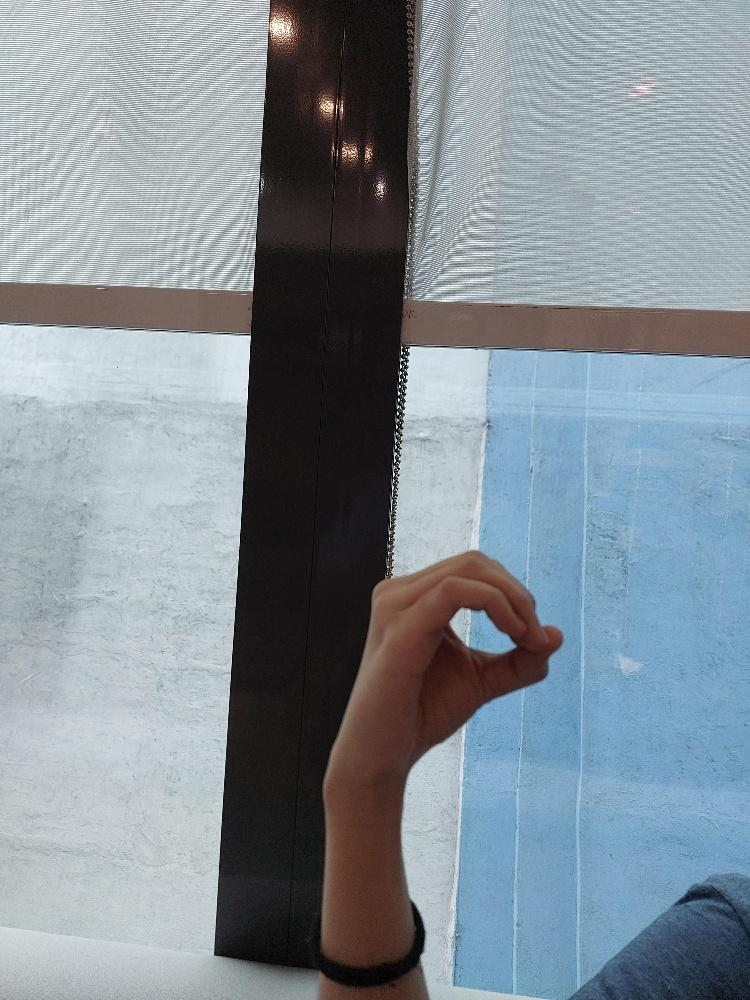o: (357, 547, 564, 753)
